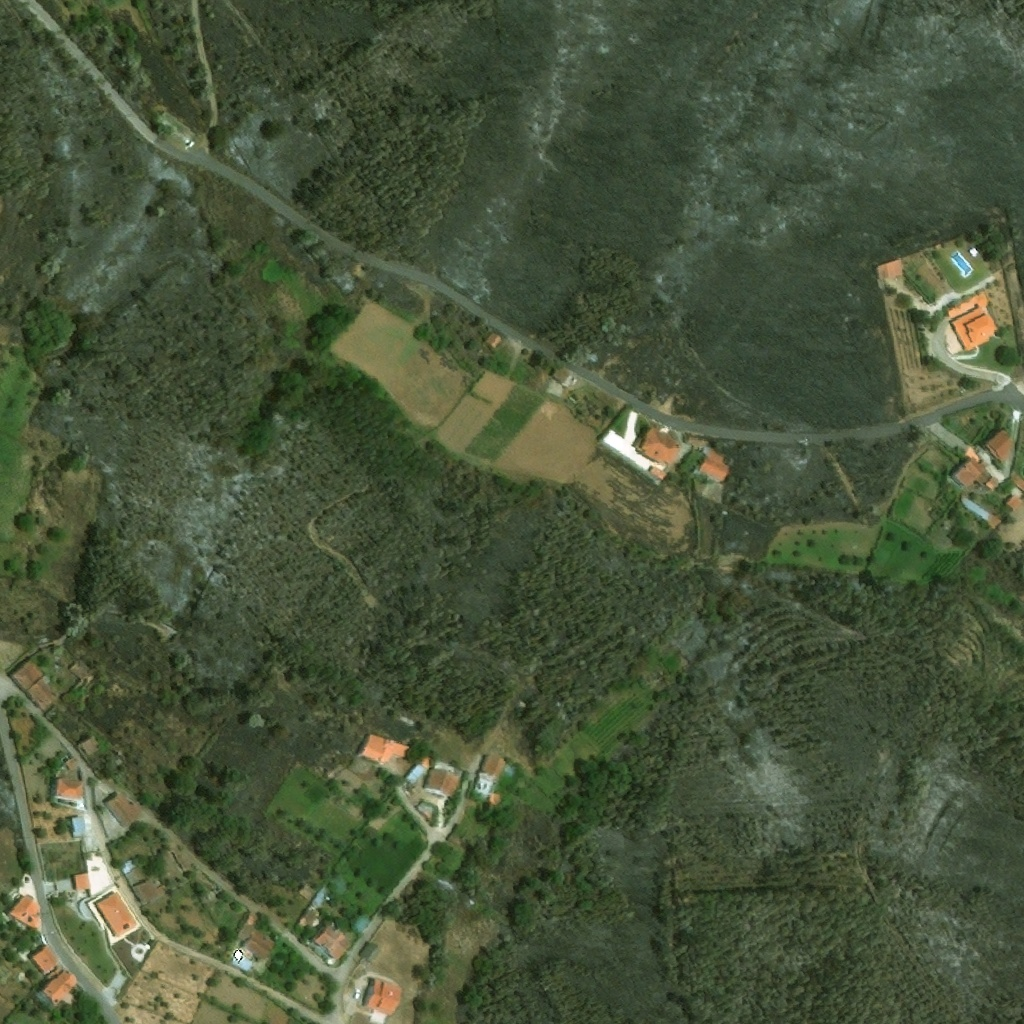0 no-damage: (230, 911, 283, 982), (947, 292, 1002, 351), (9, 658, 64, 714), (119, 856, 168, 907), (631, 423, 681, 466), (94, 889, 137, 939), (357, 731, 411, 767), (312, 918, 356, 962), (34, 967, 79, 1008), (361, 977, 402, 1018), (101, 789, 143, 828), (302, 880, 339, 924), (961, 493, 1003, 530), (422, 758, 460, 798), (8, 893, 42, 932), (950, 454, 986, 490), (695, 449, 729, 485), (983, 427, 1018, 460), (30, 944, 62, 976), (48, 777, 85, 803), (478, 753, 508, 781), (402, 757, 430, 786), (413, 798, 439, 823), (877, 257, 903, 280), (549, 366, 572, 389), (78, 734, 99, 756), (68, 816, 89, 837), (361, 943, 382, 964), (445, 825, 466, 846), (483, 331, 503, 351), (72, 873, 91, 891), (296, 884, 315, 901), (984, 475, 1001, 492), (1005, 495, 1023, 511), (61, 754, 79, 770), (648, 466, 664, 481)
3 destroyed: (68, 658, 98, 693)
4 un-classified: (1011, 471, 1023, 492)
